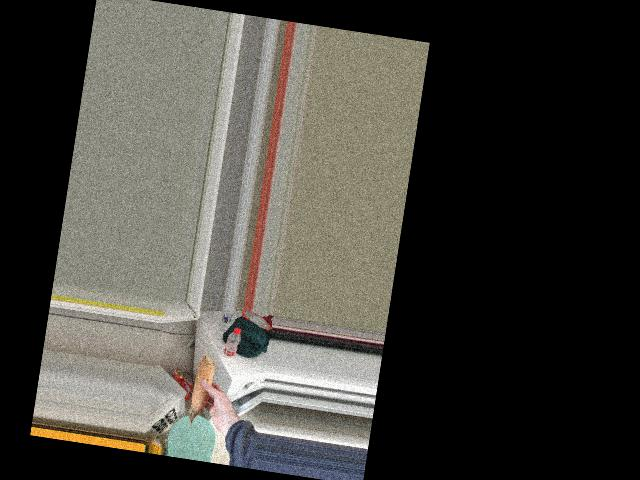sweet_potato: (189, 361, 218, 421)
